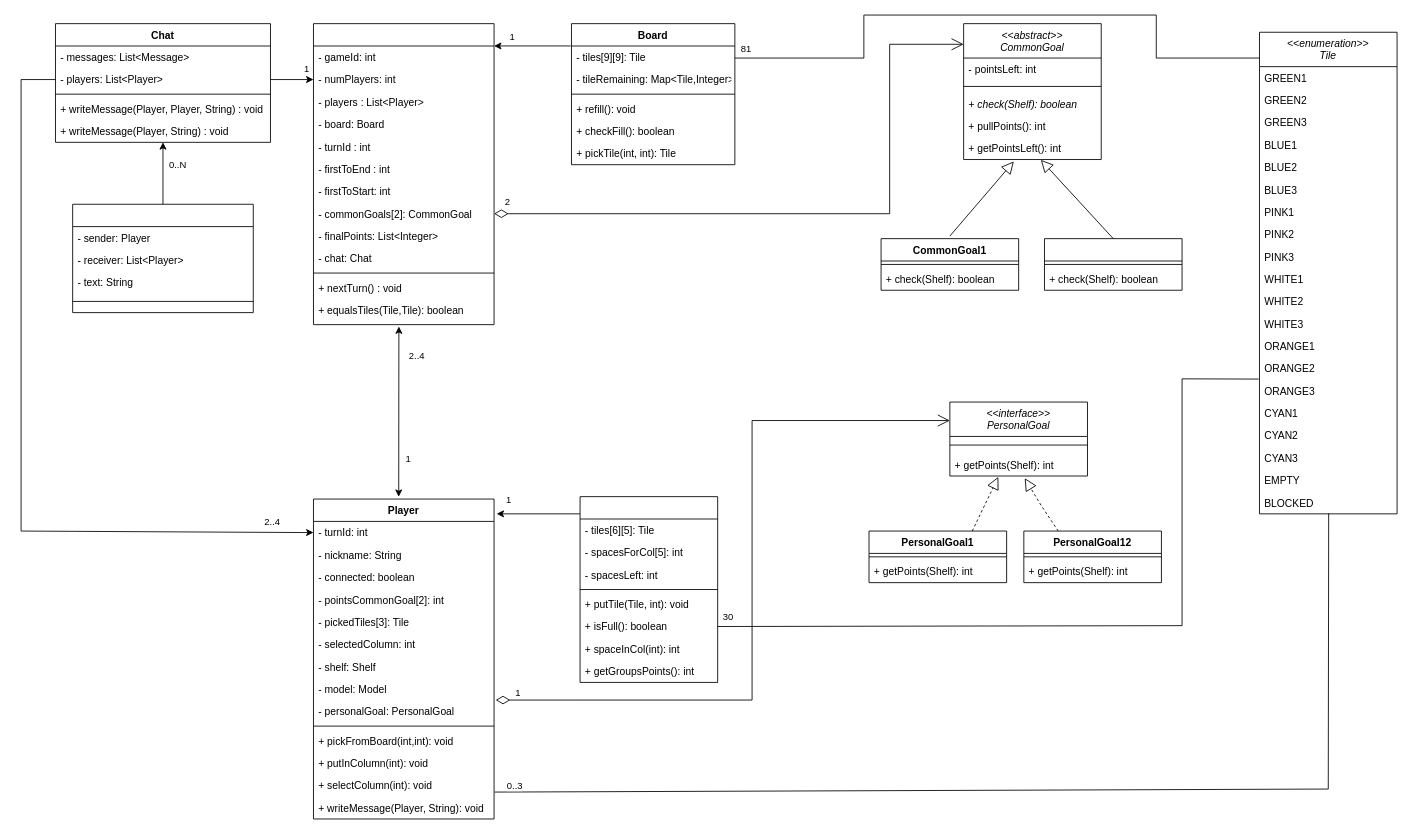
This 1412x837 diagram has some shape labels left out. Here are the shapes that lost their labels. From the top down, the box of each, then its label:
(313, 23, 494, 325): Model
(72, 203, 253, 313): Message
(1044, 238, 1182, 290): CommonGoal12
(579, 496, 718, 682): Shelf
